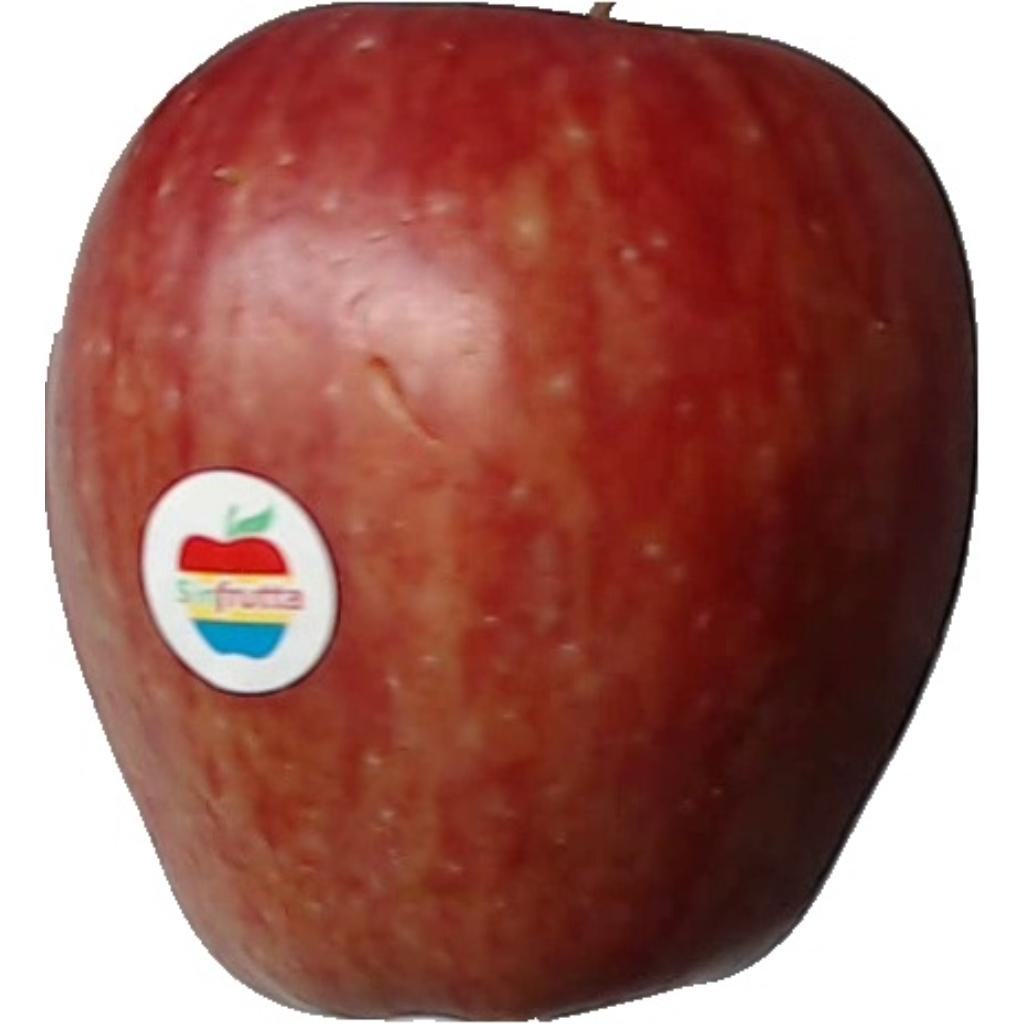apple: (44, 4, 980, 1024)
